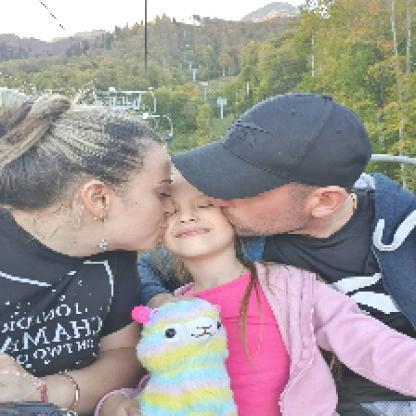child: (161, 166, 416, 415)
